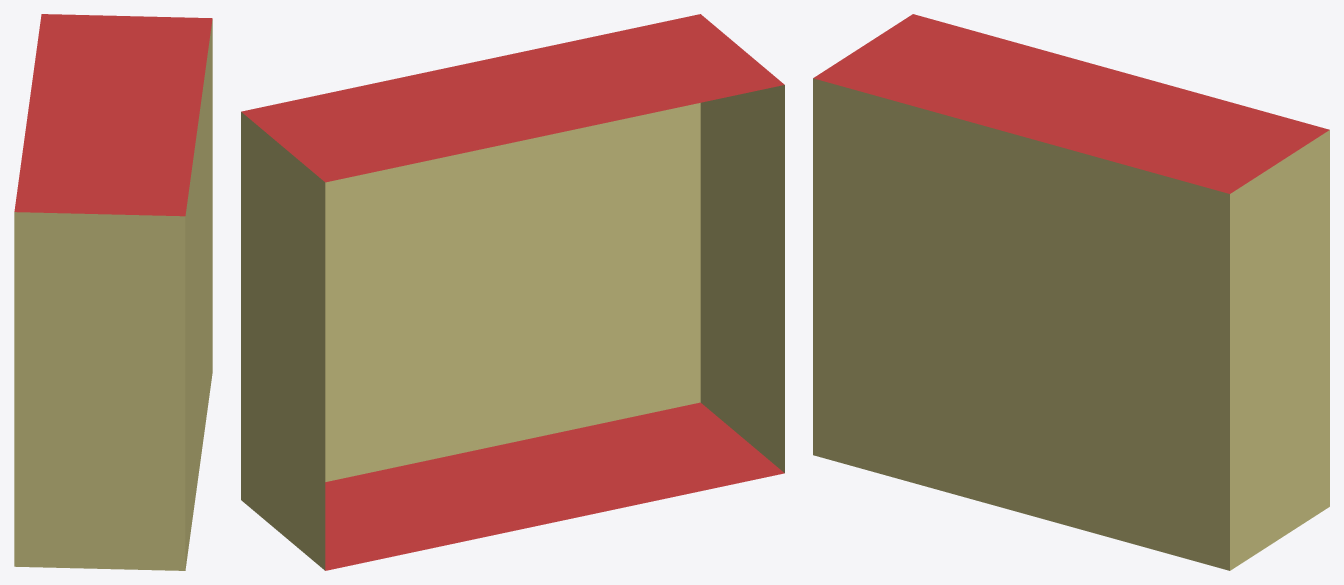
The picture shows the model from 3 angles, left to right: view 1: azimuth 30°, elevation 25°; view 2: azimuth 150°, elevation 25°; view 3: azimuth 270°, elevation 25°; orthographic projection. The views are drawn at different scales.
Bounding box in the file's own units: 8.26 × 10.02 × 8.06.
